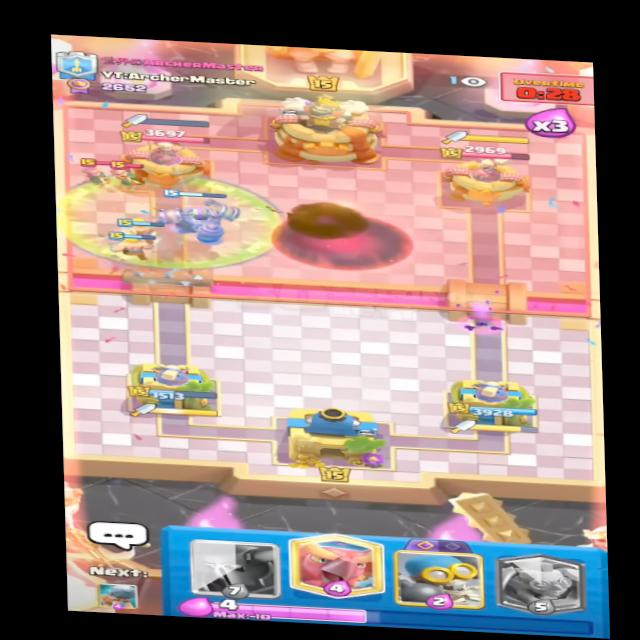Archer: (76, 157, 111, 186), (111, 159, 142, 184)
